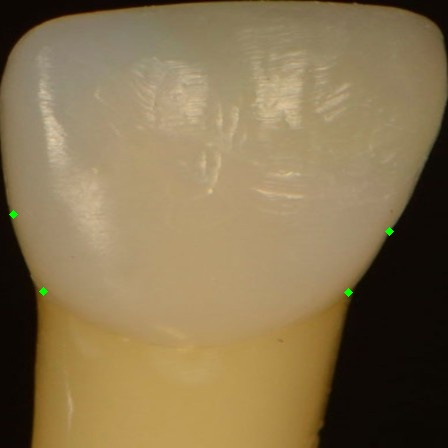coin_1: (348, 292, 368, 312)
coin_2: (389, 231, 409, 251)
coin_3: (43, 291, 63, 311)
coin_4: (13, 214, 33, 234)
